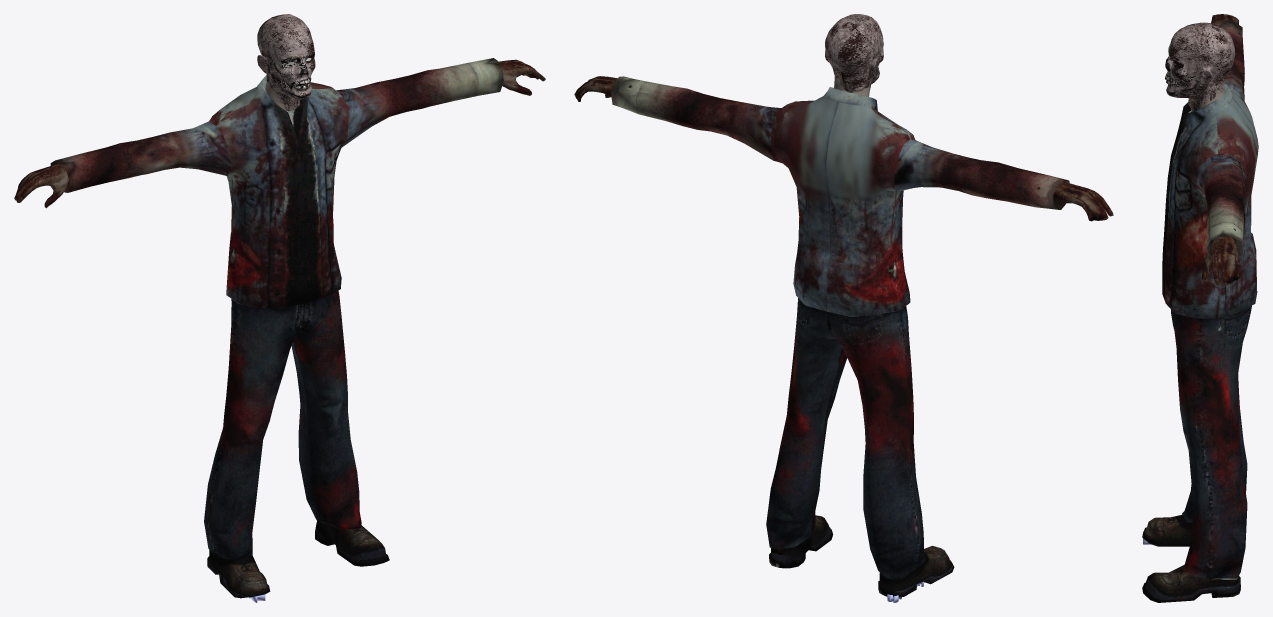
File: zombi 2 no animfbx.fbx
3 renders of one model, left to right at view 1: azimuth 30°, elevation 25°; view 2: azimuth 150°, elevation 25°; view 3: azimuth 270°, elevation 25°, orthographic. The views are drawn at different scales.
Visible parts, largest first — view 1: zombie; view 2: zombie; view 3: zombie.
Part boxes in pixels (x1,y1,x2,y2): zombie: (14,14,545,602); zombie: (574,14,1113,602); zombie: (1142,14,1258,602).
Size of the model in its own units: 7182 by 7115 by 1381.
Materials: 6 (2 with a texture image).
